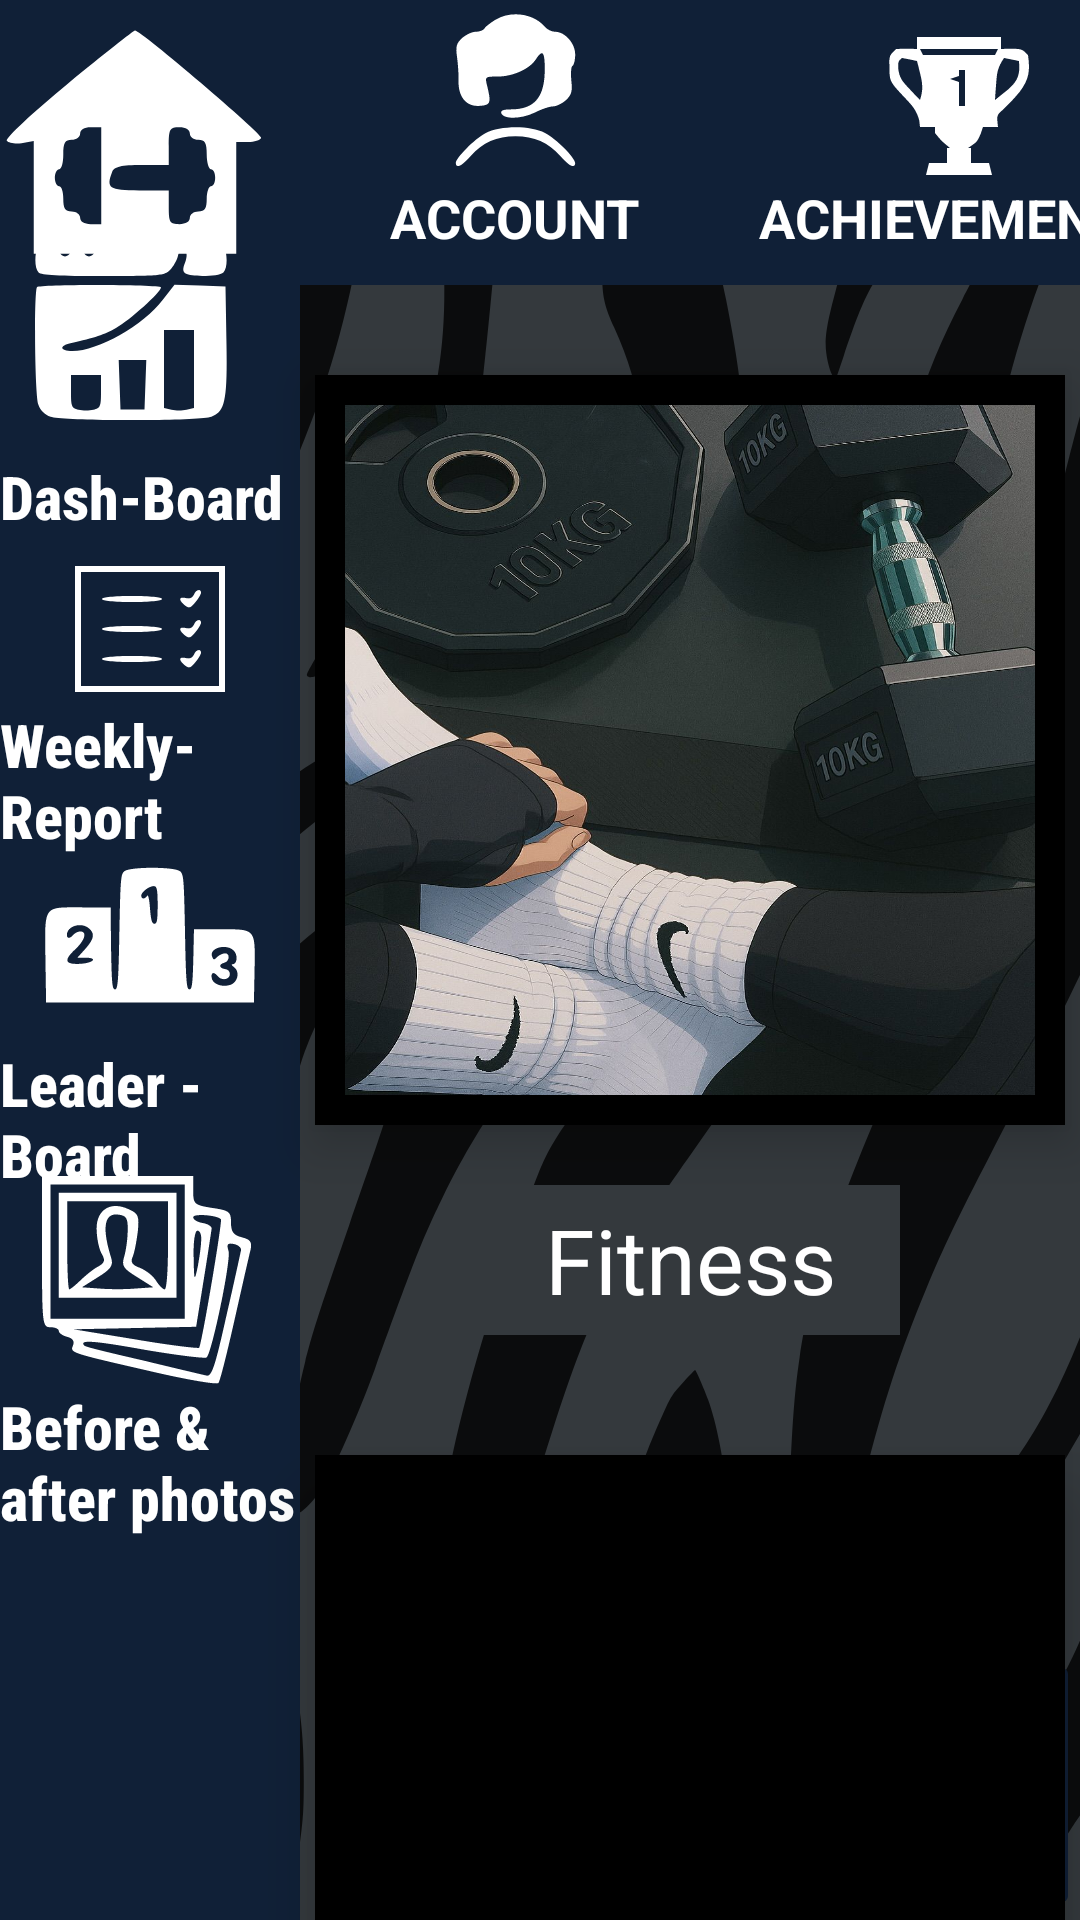

Point at icon controls on the screen. Image size 1080px x 1920px, points as (x,y).
cupw: (959,106)
phoyow: (146,1280)
